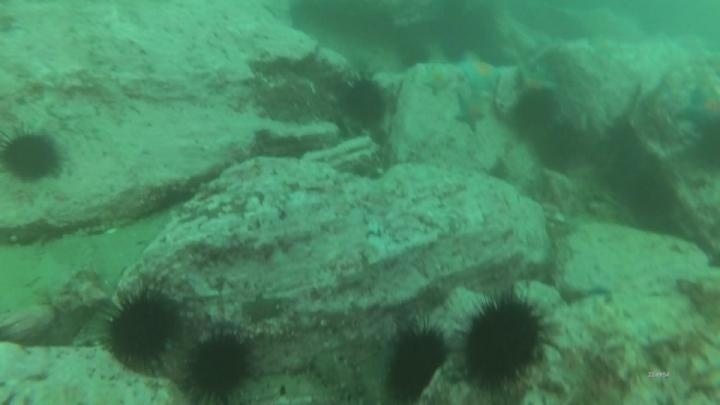echinus: (459, 291, 552, 393), (102, 287, 183, 371), (180, 328, 259, 403), (381, 320, 451, 403), (0, 127, 65, 185), (337, 73, 390, 128), (622, 172, 677, 224), (533, 122, 583, 173), (511, 88, 559, 134), (687, 117, 720, 176), (393, 39, 433, 72)
holothurian: (309, 349, 377, 404)
starfish: (675, 84, 720, 134), (457, 54, 503, 93), (452, 91, 488, 134), (514, 64, 559, 97), (420, 66, 456, 97)
